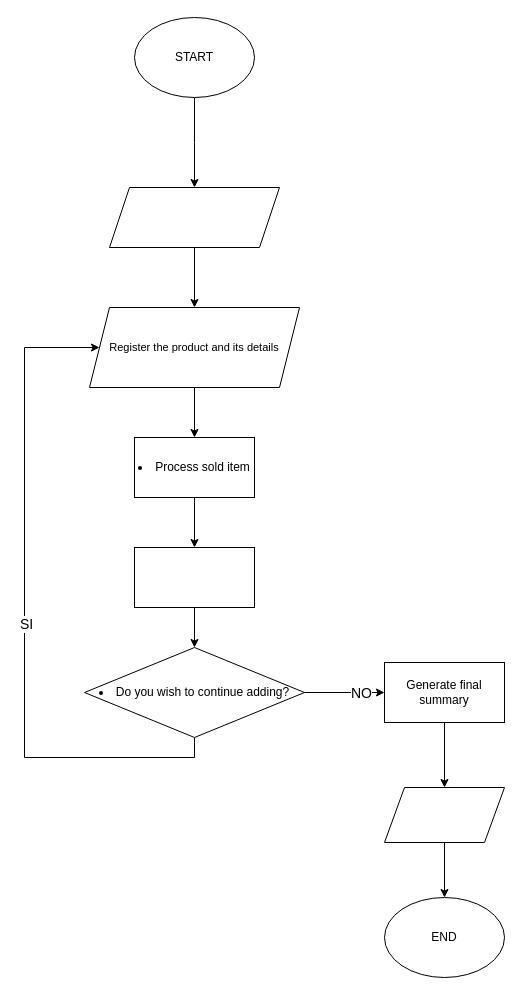
This 522x995 diagram has some shape labels left out. Each missing label, with the box of its shape:
Add item to history: (134, 546, 254, 608)
Show history: (384, 786, 504, 842)
Welcome message: (108, 186, 280, 248)
